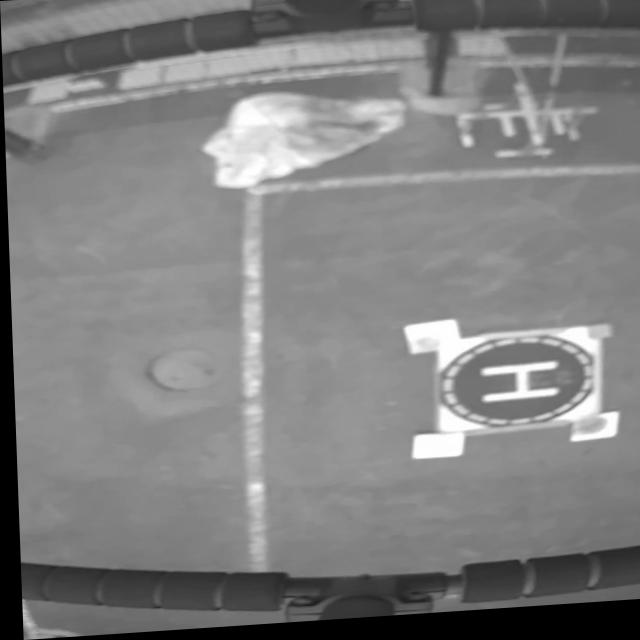Helipad: (479, 367, 558, 408)
